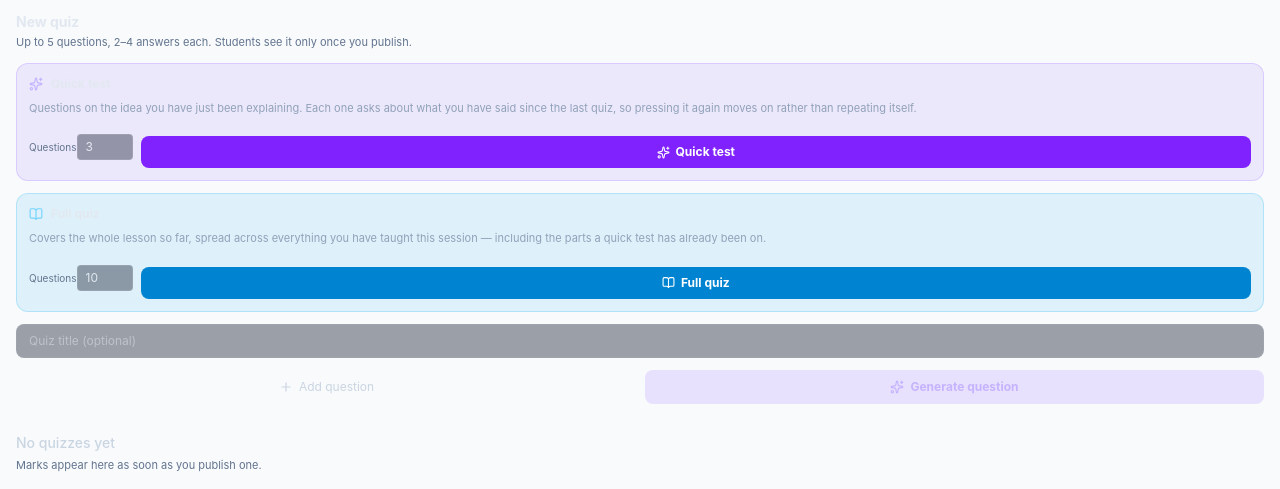
it: TeacherQuizPanel › passes on the assistant’s reason when there is nothing new to quiz
Click the button "Quick test": point(696, 152) [140,136,1251,168]
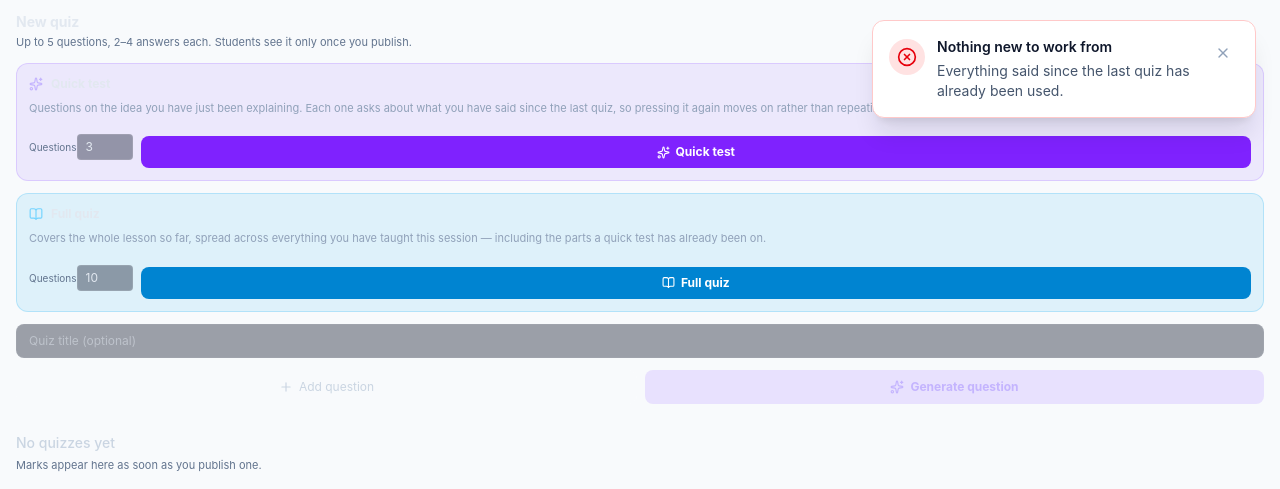
Result: the text "Everything said since the last quiz has already been used." is shown at [937,61,1195,101]
